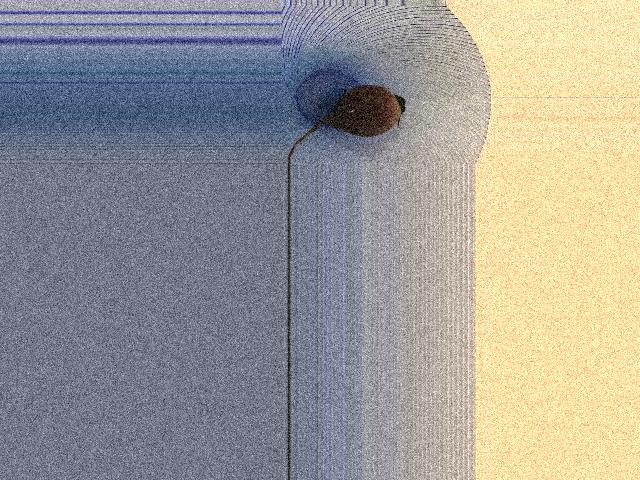beet: (288, 85, 406, 165)
